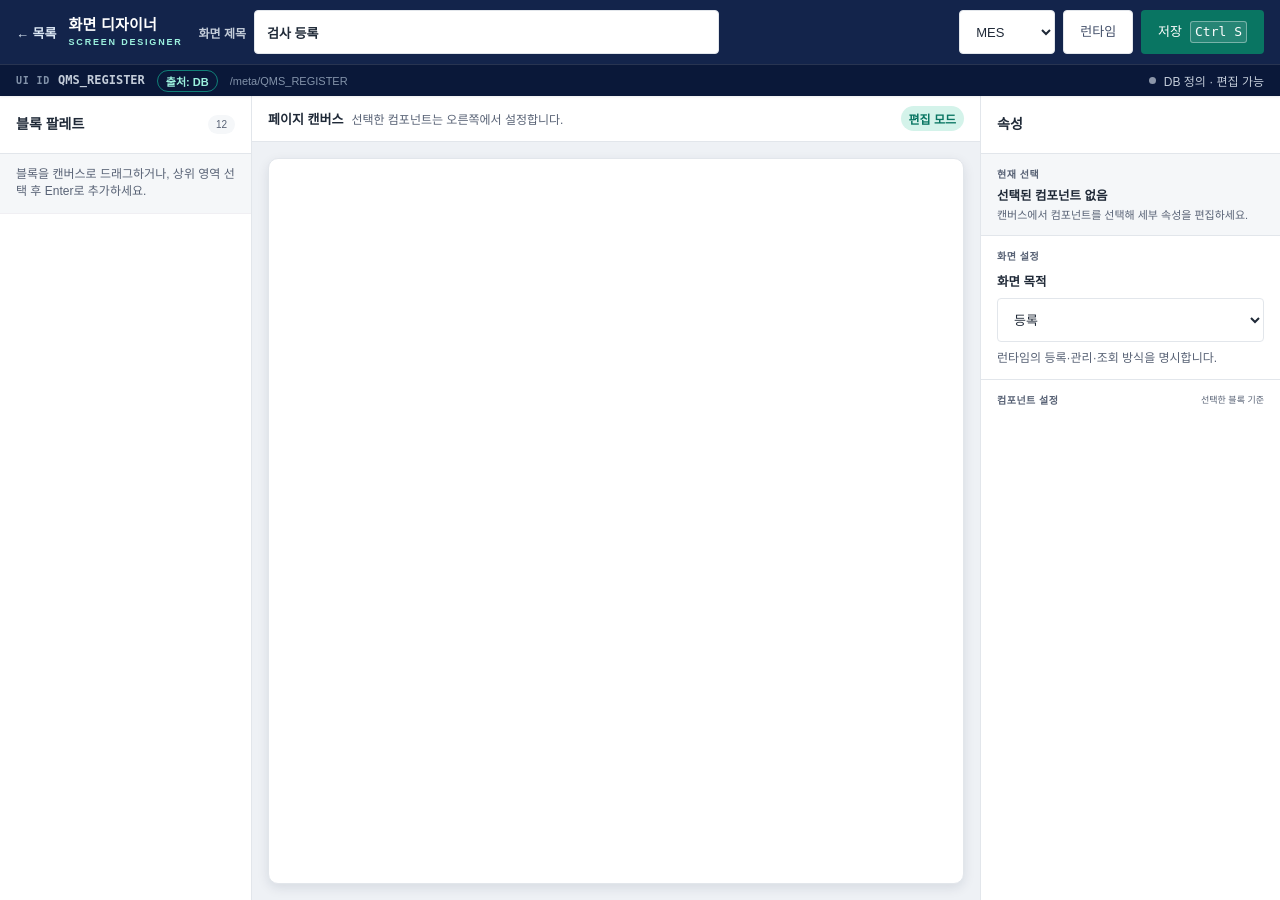
ScreenEditor 화면 목적 속성 › 컬렉션 구조 오류는 권한 오류로 숨기지 않고 저장 원인을 안내한다
What coordinates should you click on to do the following:
click the button "저장 Ctrl S"
I would click on:
 (1203, 32)
Its box is top-left (1141, 10), bottom-right (1264, 54).
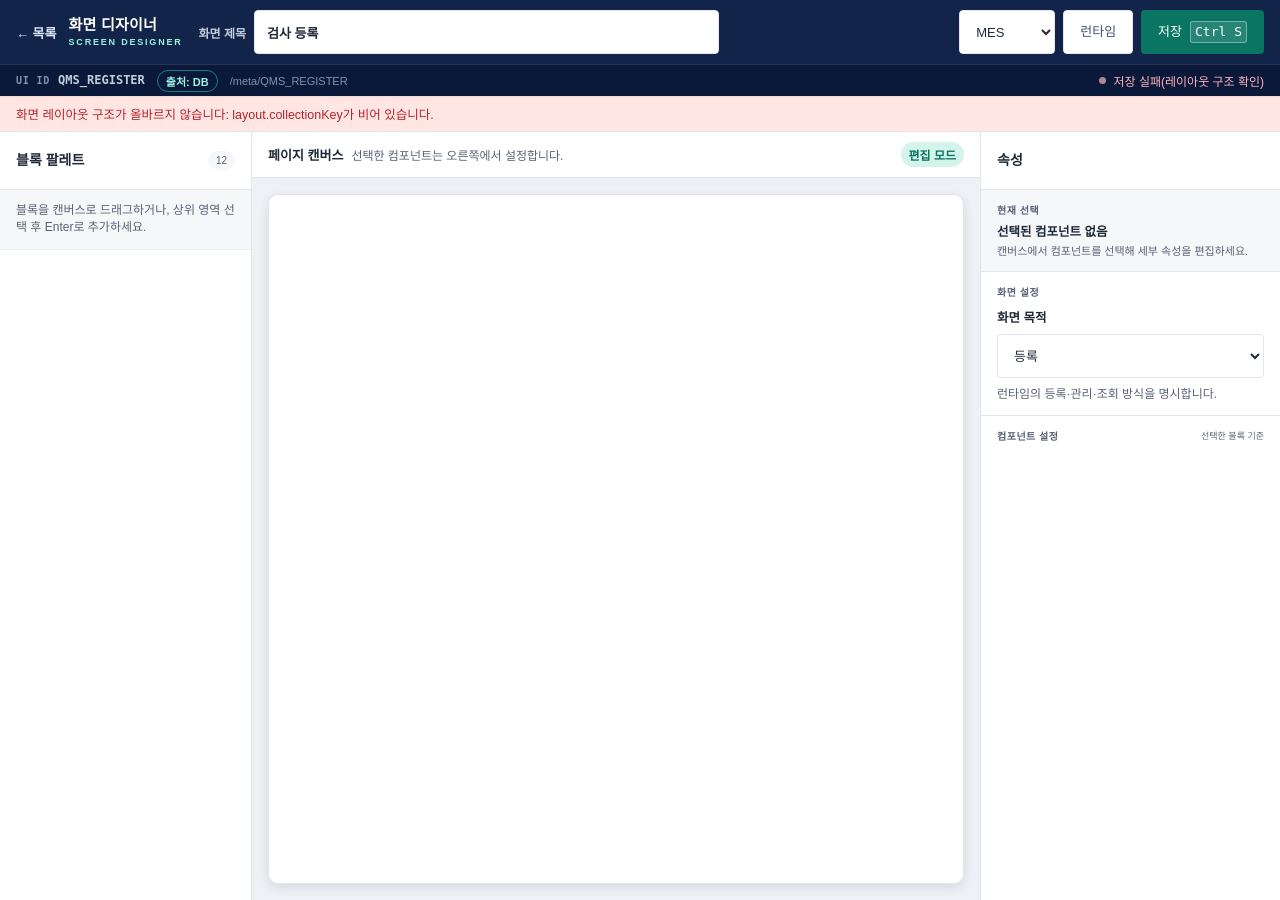
Result: the message "화면 레이아웃 구조가 올바르지 않습니다: layout.collectionKey가 비어 있습니다." is shown at top-left (0, 96), bottom-right (1279, 132)
Result: the text "저장 실패(레이아웃 구조 확인)" is shown at top-left (1098, 72), bottom-right (1264, 89)
